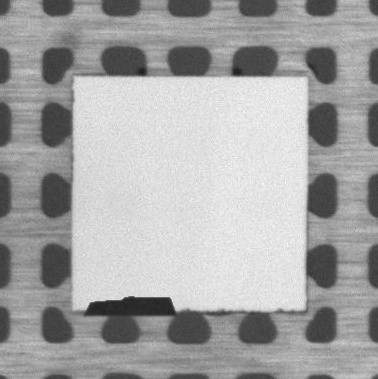DIE_BROKEN: (81, 293, 179, 316)
